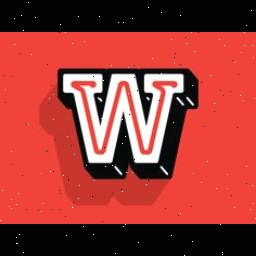w: (54, 64, 194, 178)
